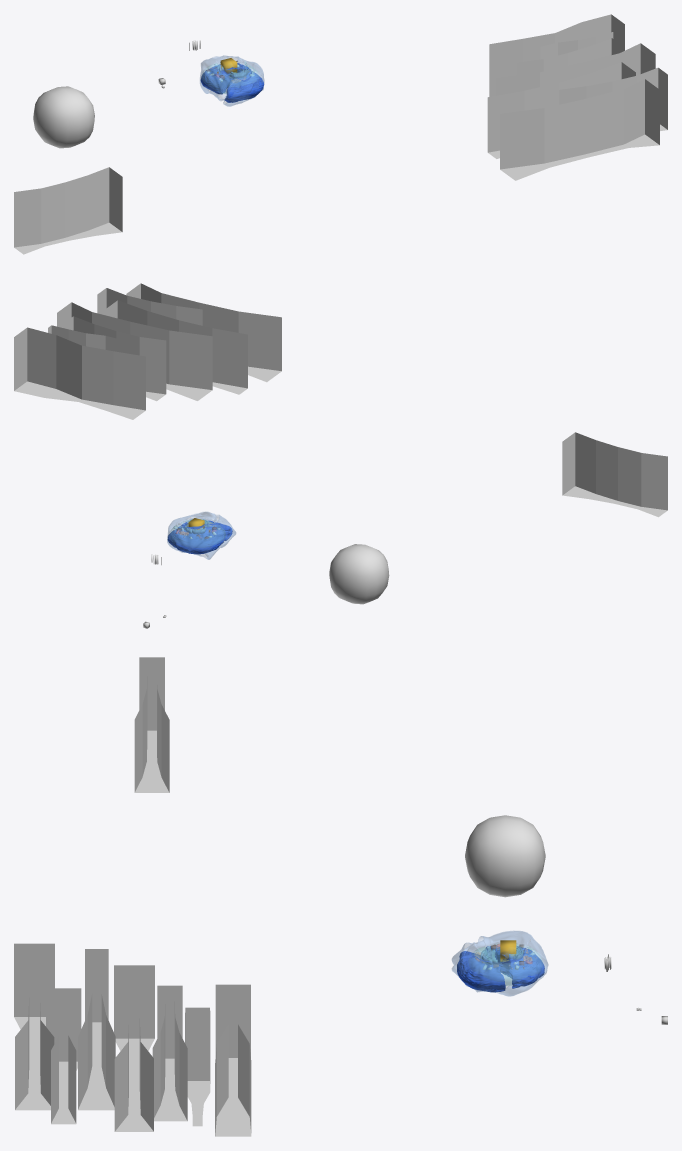
The model's file is SelHewanBroken_NewExport.glb.
3 views of the same model, one above another, from view 1: azimuth 30°, elevation 25°; view 2: azimuth 150°, elevation 25°; view 3: azimuth 270°, elevation 25° (orthographic). The views are drawn at different scales.
Parts seen in each view (by area): view 1: Plane.006, Plane.012, Cube.107, Plane, Plane.004, Plane.003, Cube, Plane.002, Cube.086, Plane.005, Plane.001, Cube.087; view 2: Plane, Plane.012, Plane.003, Plane.006, Plane.004, Cube.107, Plane.005, Cube, Plane.002, Cube.086, Plane.001, Cube.087; view 3: Plane.003, Plane.006, Plane, Cube.107, Plane.004, Plane.012, Plane.005, Plane.002, Cube, Cube.086, Plane.001, Cube.087.
Part boxes in pixels (box(x1,y1,x2,y2)): Plane.006: box(500, 79, 659, 180); Plane.012: box(14, 167, 122, 254); Cube.107: box(33, 86, 94, 148); Plane: box(489, 14, 624, 96); Plane.004: box(487, 62, 635, 158); Plane.003: box(495, 43, 655, 95); Cube: box(200, 55, 264, 106); Plane.002: box(559, 67, 667, 130); Cube.086: box(200, 63, 264, 102); Plane.005: box(516, 38, 624, 75); Plane.001: box(540, 32, 617, 59); Cube.087: box(202, 63, 258, 93); Plane: box(14, 327, 145, 419); Plane.012: box(562, 432, 667, 517); Plane.003: box(57, 302, 212, 400); Plane.006: box(126, 283, 281, 382); Plane.004: box(104, 300, 247, 394); Cube.107: box(329, 544, 389, 604); Plane.005: box(60, 316, 166, 401); Cube: box(167, 511, 235, 559); Plane.002: box(97, 288, 202, 325); Cube.086: box(167, 520, 232, 554); Plane.001: box(48, 325, 122, 352); Cube.087: box(169, 520, 225, 547); Plane.003: box(114, 965, 154, 1131); Plane.006: box(14, 943, 54, 1110); Plane: box(215, 984, 251, 1136); Cube.107: box(465, 815, 545, 897); Plane.004: box(78, 949, 115, 1110); Plane.012: box(134, 657, 169, 792); Plane.005: box(152, 985, 187, 1121); Plane.002: box(46, 988, 81, 1124); Cube: box(452, 930, 548, 996); Cube.086: box(457, 946, 544, 992); Plane.001: box(185, 1007, 210, 1126); Cube.087: box(469, 944, 542, 985).
Bounding box in the file's own units: 24.96 × 4.26 × 16.98.
